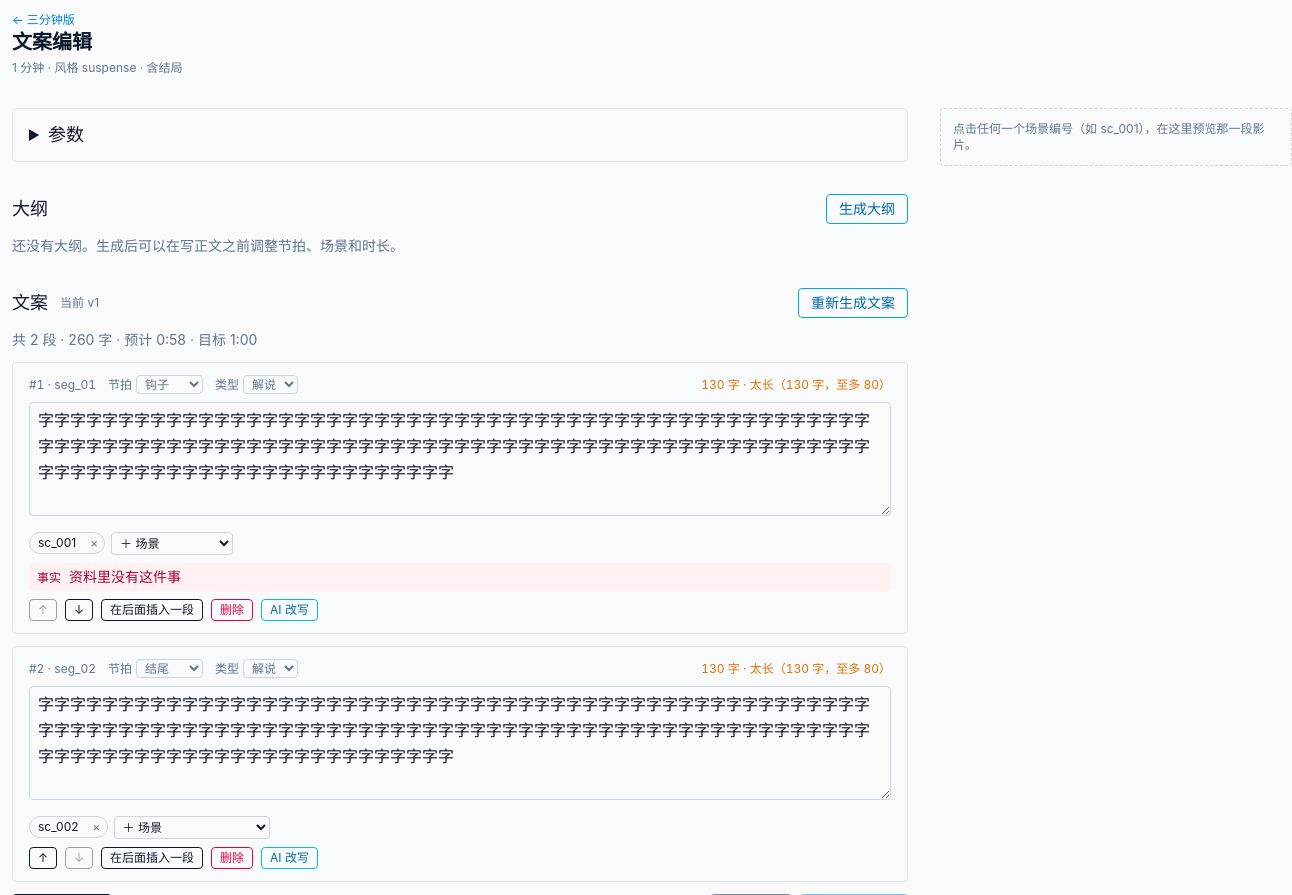
script editor › previews a scene when its chip is clicked
Expected: the number of list items named "第 1 段" is 2, top-left (12, 362), bottom-right (908, 634); top-left (12, 646), bottom-right (908, 882)
Expected: the text "点击任何一个场景编号（如 sc_001），在这里预览那一段影片。" is shown, top-left (940, 108), bottom-right (1291, 166)
Click the button "sc_002": (58, 826) top-left (30, 816), bottom-right (87, 836)
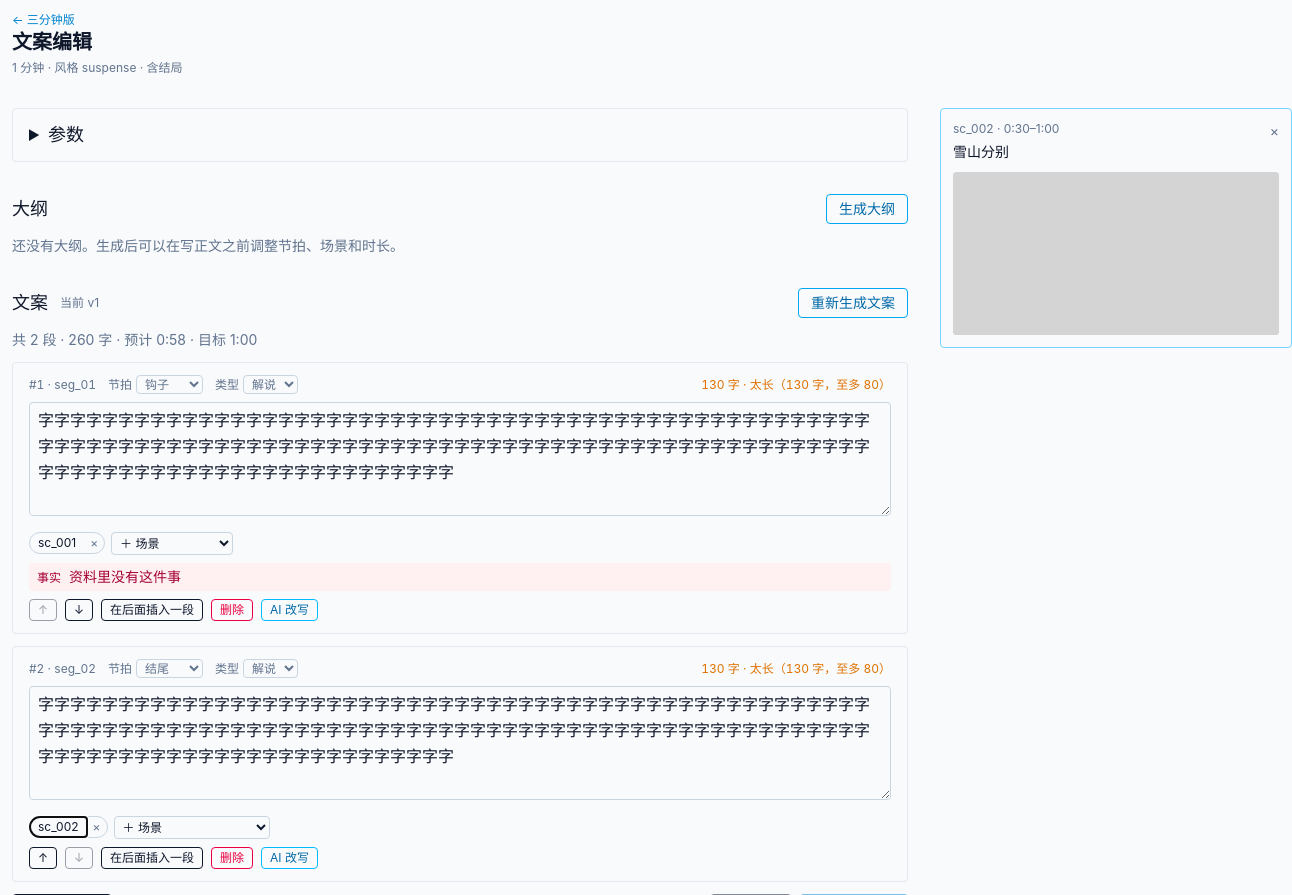
Now the element named "场景预览" shows "雪山分别", box top-left (953, 143), bottom-right (1009, 160)
Click the button named "关闭预览": (1274, 131) top-left (1270, 121), bottom-right (1279, 141)
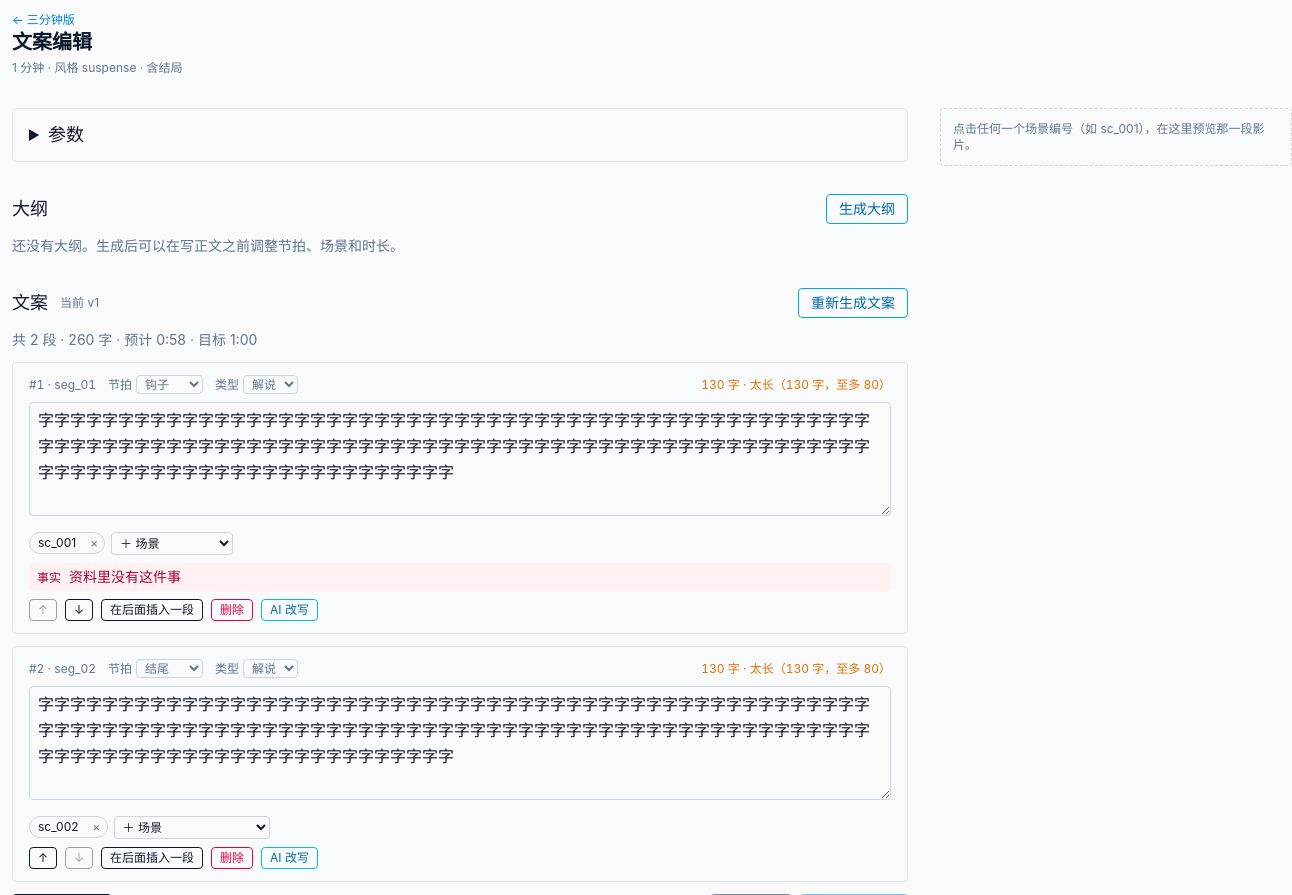
Now the element "场景预览" is gone
